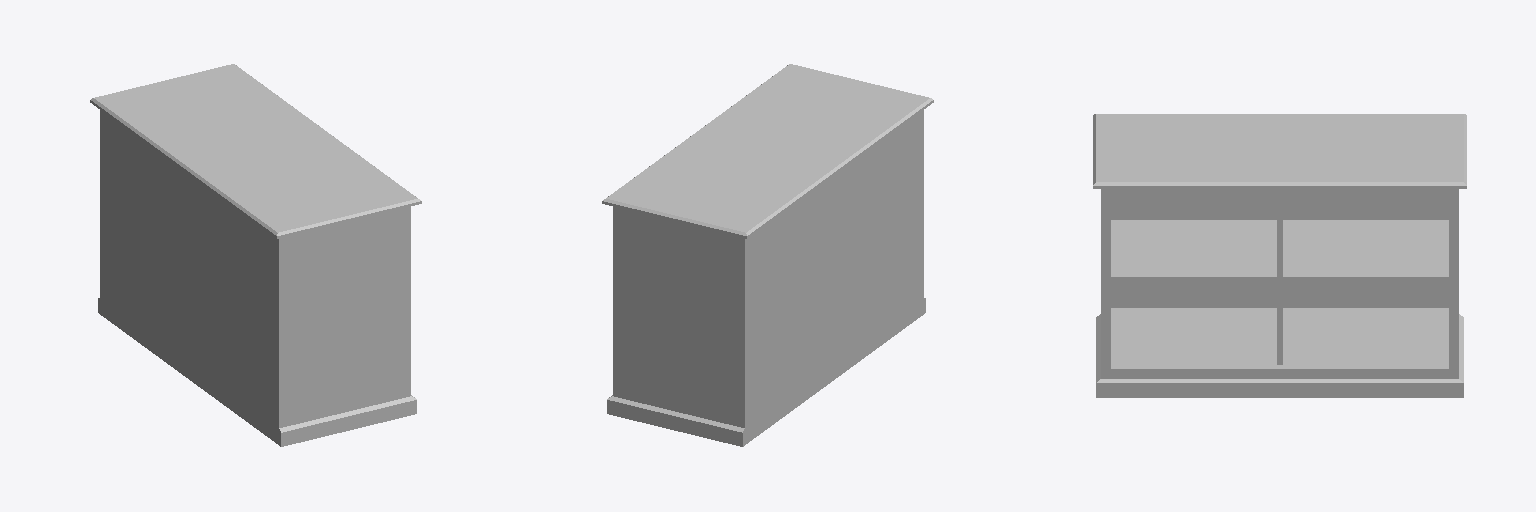
Rendered from cabinet.obj.
3 renders of one model, left to right at view 1: azimuth 30°, elevation 25°; view 2: azimuth 150°, elevation 25°; view 3: azimuth 270°, elevation 25°, orthographic.
Parts seen in each view (by area): view 1: SM_Cabinet.001; view 2: SM_Cabinet.001; view 3: SM_Cabinet.001.
Part boxes in pixels (left/top/right/bottom): SM_Cabinet.001: left=90, top=64, right=421, bottom=446; SM_Cabinet.001: left=602, top=64, right=933, bottom=446; SM_Cabinet.001: left=1093, top=114, right=1466, bottom=397.
Bounding box in the file's own units: 0.5474 × 0.7786 × 1.22.